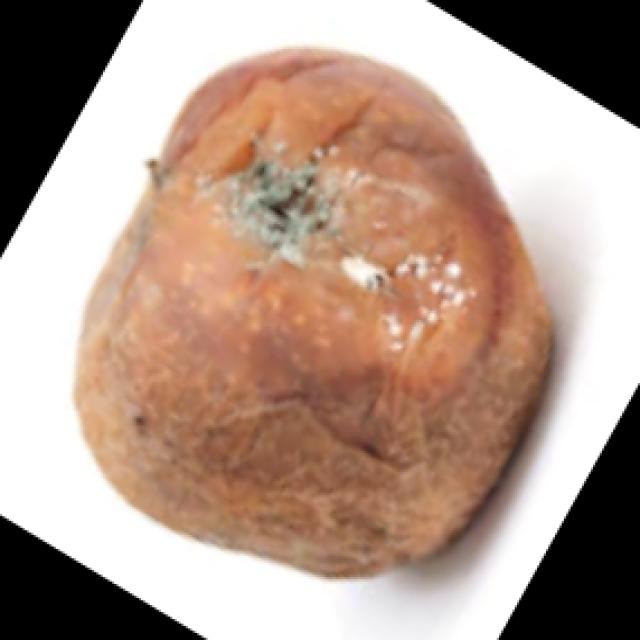Rotten: (71, 41, 561, 582)
